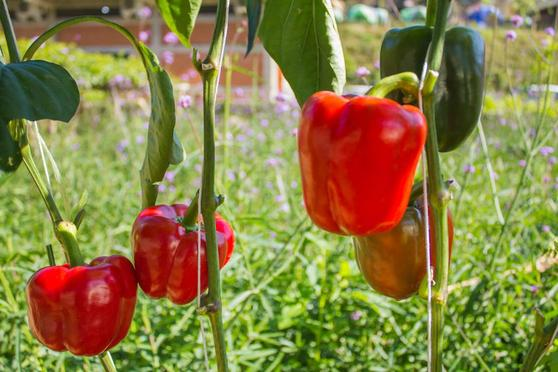pepper: (300, 87, 423, 235), (24, 260, 140, 354), (135, 198, 233, 304)
